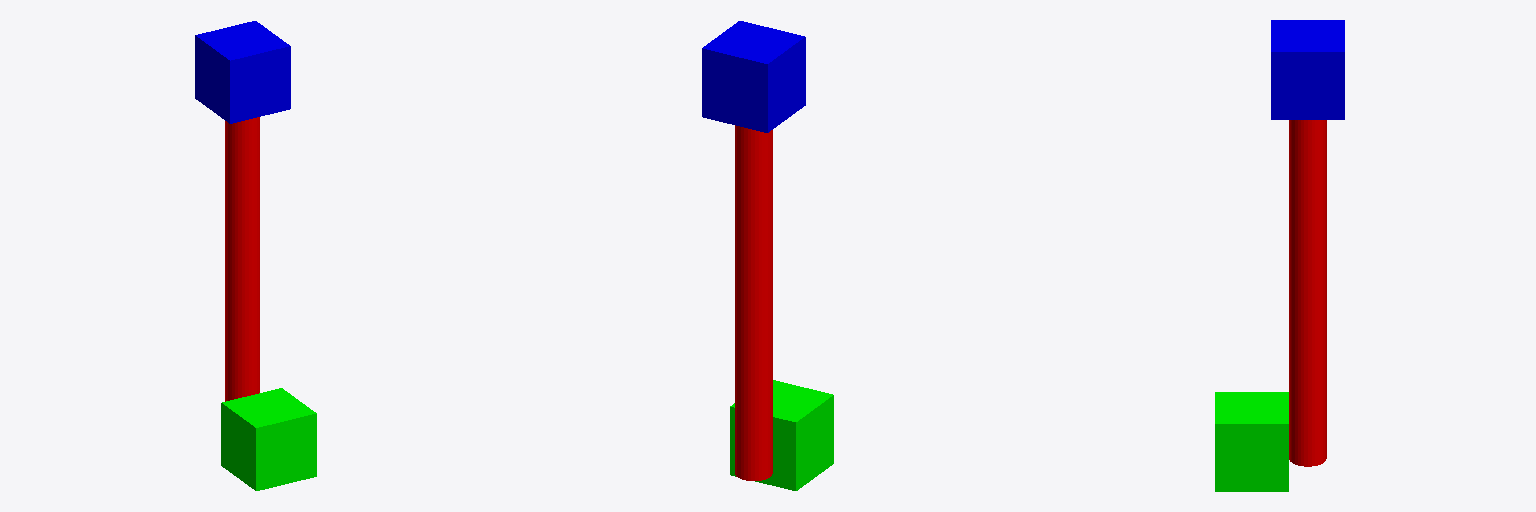
URDF robot description (ActuatedPendulum):
<?xml version="1.0"?>

<robot xmlns="http://drake.mit.edu"
 xmlns:xsi="http://www.w3.org/2001/XMLSchema-instance"
 xsi:schemaLocation="http://drake.mit.edu ../../../doc/drakeURDF.xsd" name="ActuatedPendulum">

  <link name="base_link">
    <visual>
      <geometry>
         <box size=".2 .2 .2" />
      </geometry>
      <material name="green">
	<color rgba="0 1 0 1" />
      </material>
    </visual>
  </link>

  <link name="pendulum_link">
    <inertial>
      <origin xyz="0 0 -.5" rpy="0 0 0" />
      <mass value="1" />
      <inertia ixx="1" ixy="0" ixz="0" iyy="0.083" iyz="0" izz="1" />
    </inertial>
    <visual>
      <origin xyz="0 0 -.5" rpy="0 0 0" />
      <geometry>
         <cylinder length="1.1" radius=".05" />
      </geometry>
      <material name="red">
	<color rgba="1 0 0 1" />
      </material>
    </visual>
    <visual>
      <origin xyz="0 0 -1.1" rpy="0 0 0" />
      <geometry>
         <box size=".2 .2 .2" />
      </geometry>
      <material name="blue">
        <color rgba="0 0 1 1" />
      </material>
    </visual>
    <collision>
      <origin xyz="0 0 -1.1" rpy="0 0 0" />
      <geometry>
         <box size=".2 .2 .2" />
      </geometry>
    </collision>
  </link>

  <joint name="joint" type="continuous">
    <parent link="base_link" />
    <child link="pendulum_link"/>
    <origin xyz="0 .15 0" rpy="0 3.1416 0"/>
    <axis xyz="0 1 0" />
    <dynamics damping="0.1" />
  </joint>

  <transmission type="SimpleTransmission" name="trans">
    <actuator name="torque" />
    <joint name="joint" />
    <mechanicalReduction>1</mechanicalReduction>
  </transmission>

  <frame name="tip" link="pendulum_link" xyz="0 0 -1.1" rpy="0 0 0" />
</robot>

--- Facts derived from the render (not from the file) ---
3 views of the same robot in one strip: view 1: azimuth 30°, elevation 25°; view 2: azimuth 150°, elevation 25°; view 3: azimuth 270°, elevation 25° (orthographic).
Model ActuatedPendulum with 2 links and 1 joints (1 continuous), rooted at base_link, posed every joint at zero.
Links seen in each view (by area): view 1: pendulum_link, base_link; view 2: pendulum_link, base_link; view 3: pendulum_link, base_link.
Link boxes in pixels (x1,y1,x2,y2): pendulum_link: [195, 21, 290, 401]; base_link: [221, 388, 316, 490]; pendulum_link: [702, 21, 805, 480]; base_link: [730, 380, 833, 490]; pendulum_link: [1271, 20, 1344, 466]; base_link: [1215, 392, 1288, 491].
Bounding box of the posed robot: 0.2 × 0.35 × 1.3 m (x, y, z).
Geometry: primitives only (box / cylinder / sphere), no mesh files.